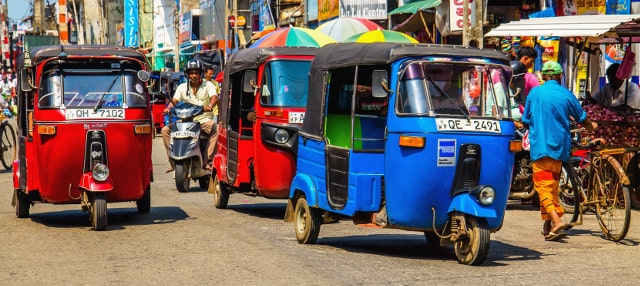tuk tuk: (282, 42, 525, 261), (9, 43, 155, 232), (208, 45, 289, 214)
